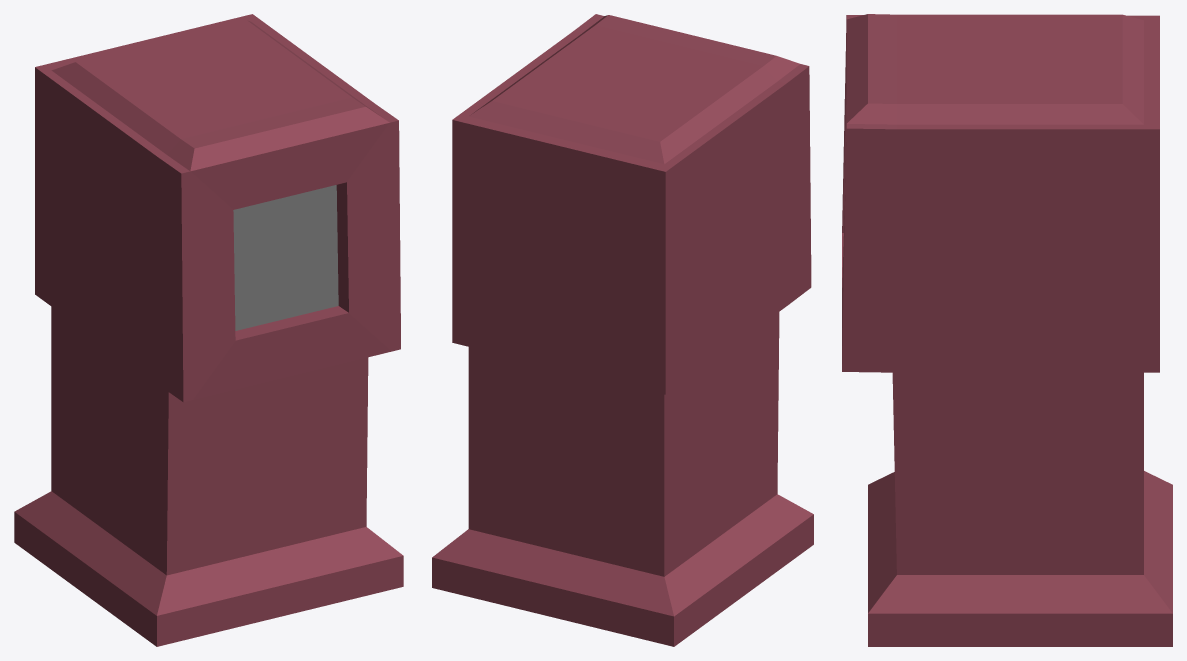
Rendered from Pink News.fbx.
3 renders of one model, left to right at view 1: azimuth 30°, elevation 25°; view 2: azimuth 150°, elevation 25°; view 3: azimuth 270°, elevation 25°, orthographic. The views are drawn at different scales.
Visible parts, largest first — view 1: News_Box_1___Copy_pCube3; view 2: News_Box_1___Copy_pCube3; view 3: News_Box_1___Copy_pCube3.
Boxes of the visible parts, <box> form: News_Box_1___Copy_pCube3: <box>14,14,403,646</box>; News_Box_1___Copy_pCube3: <box>432,14,813,646</box>; News_Box_1___Copy_pCube3: <box>842,14,1172,646</box>.
Size of the model in its own units: 0.5421 by 1.03 by 0.5881.
